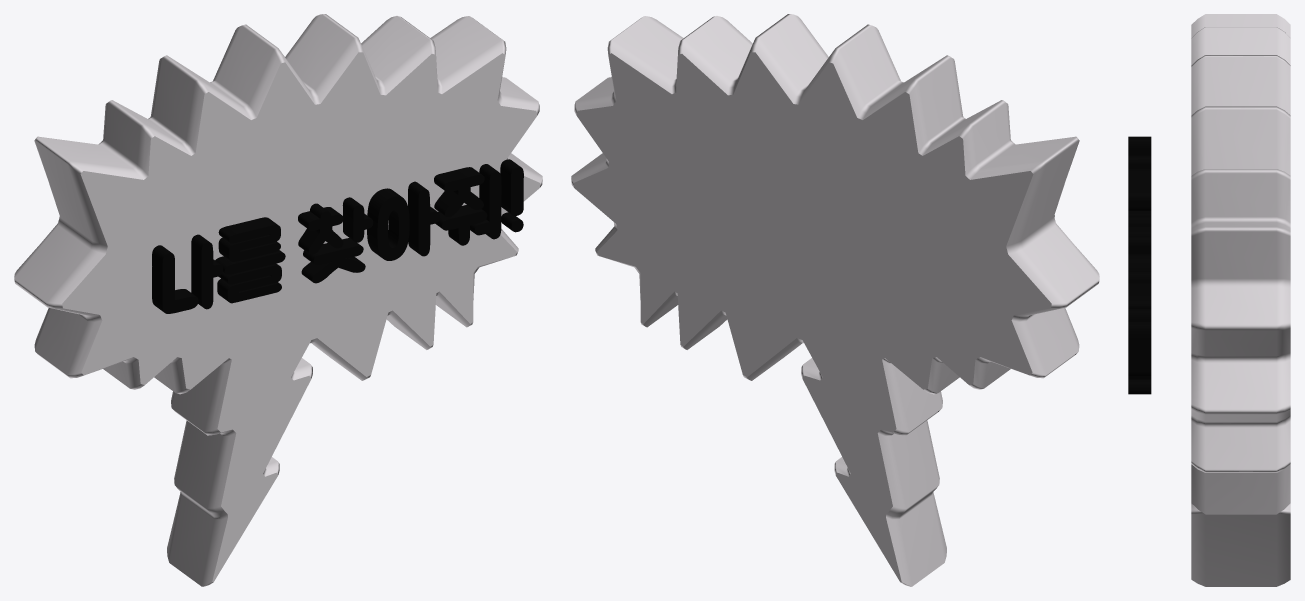
File: find.fbx
3 views of the same model, side by side, from view 1: azimuth 30°, elevation 25°; view 2: azimuth 150°, elevation 25°; view 3: azimuth 270°, elevation 25° (orthographic). The views are drawn at different scales.
Parts seen in each view (by area): view 1: node_id30, node_id80; view 2: node_id30; view 3: node_id30, node_id80.
Boxes of the visible parts, x1,y1,x2,y2 form: node_id30: [14, 14, 542, 586]; node_id80: [152, 159, 523, 313]; node_id30: [571, 14, 1099, 586]; node_id30: [1191, 14, 1290, 586]; node_id80: [1128, 136, 1151, 394].
Size of the model in its own units: 0.5105 by 0.512 by 0.1324.
Materials: 2 (1 with a texture image).
